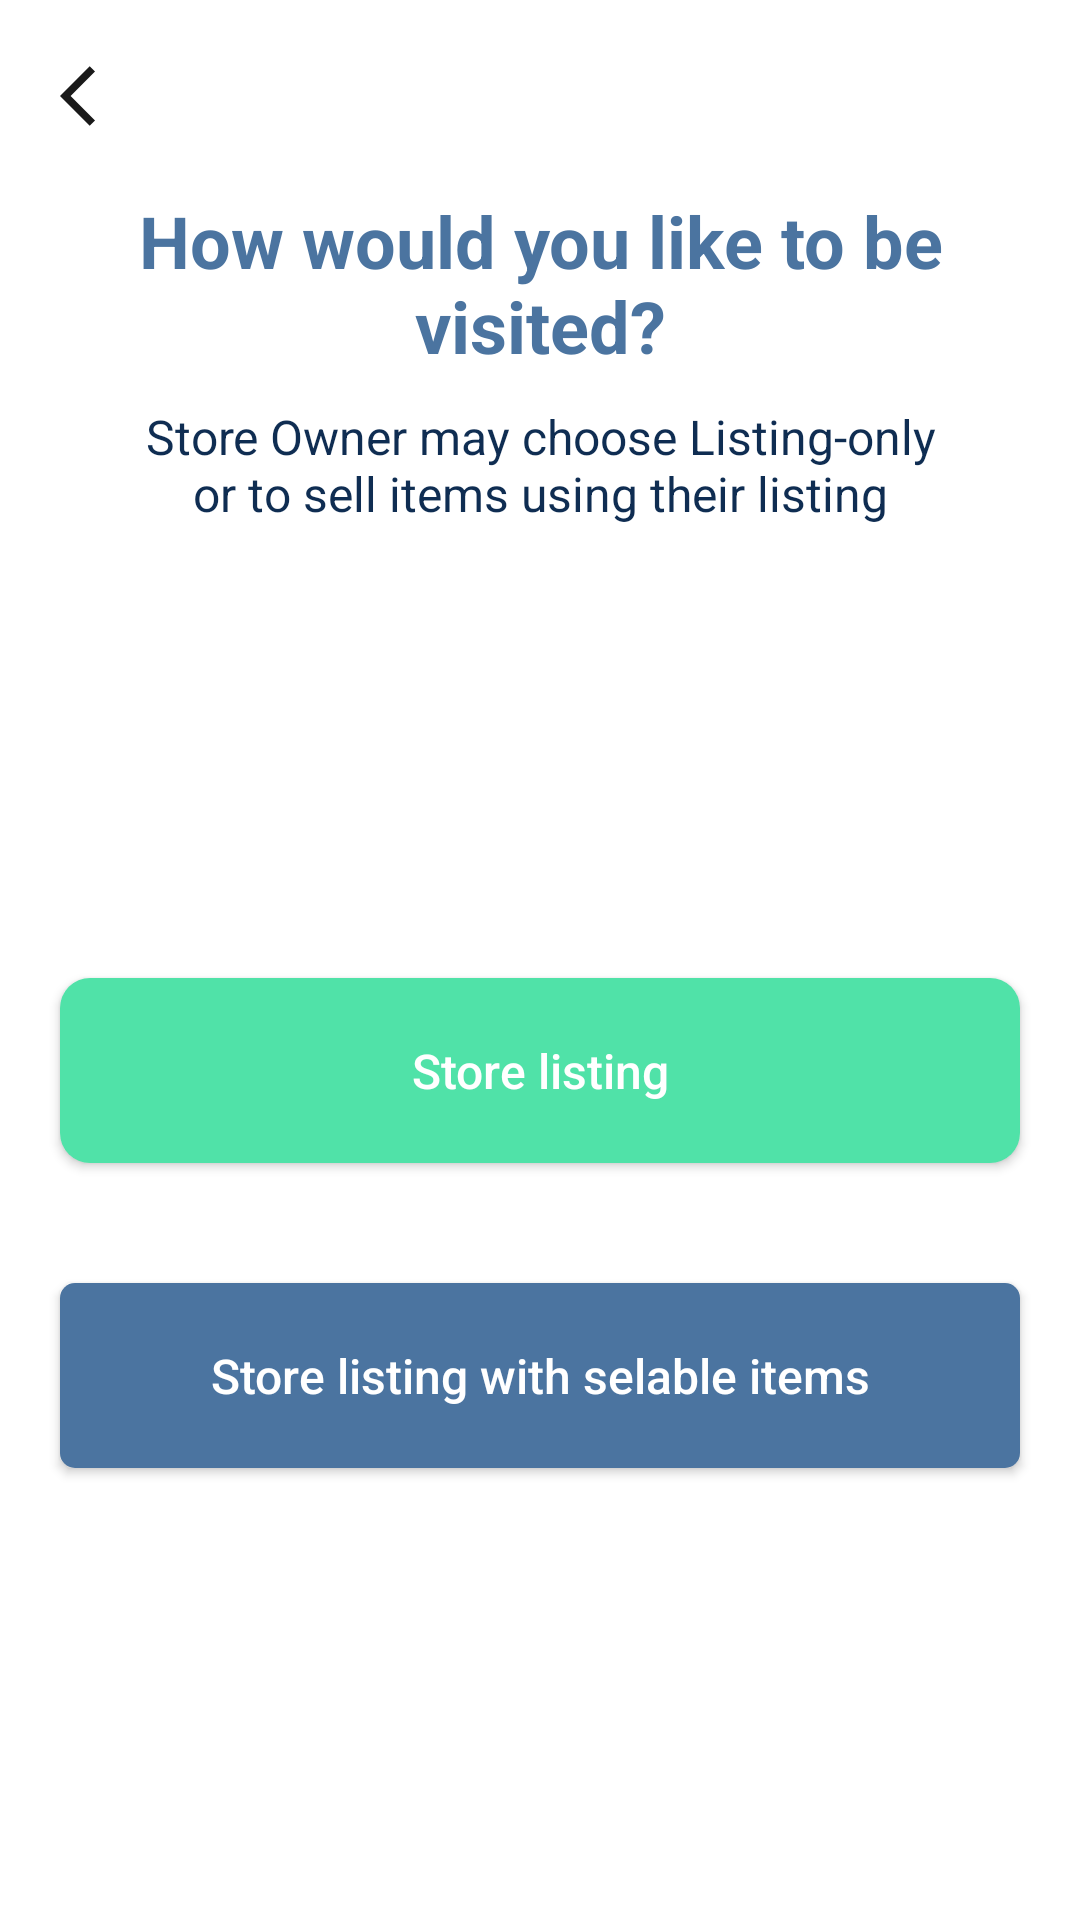

Icon bounding boxes for this 1080×1920 phone screenshot, format (x1, y1, x2, y2):
imgback: (60, 66, 95, 126)
